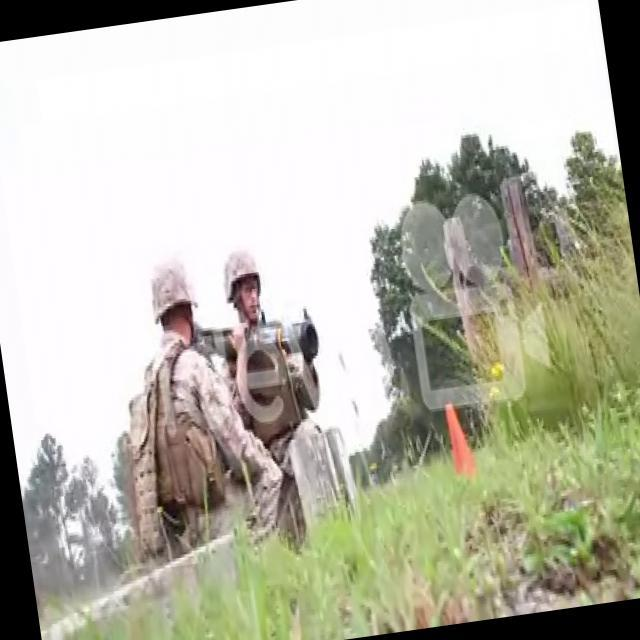rocket: (205, 312, 322, 376)
